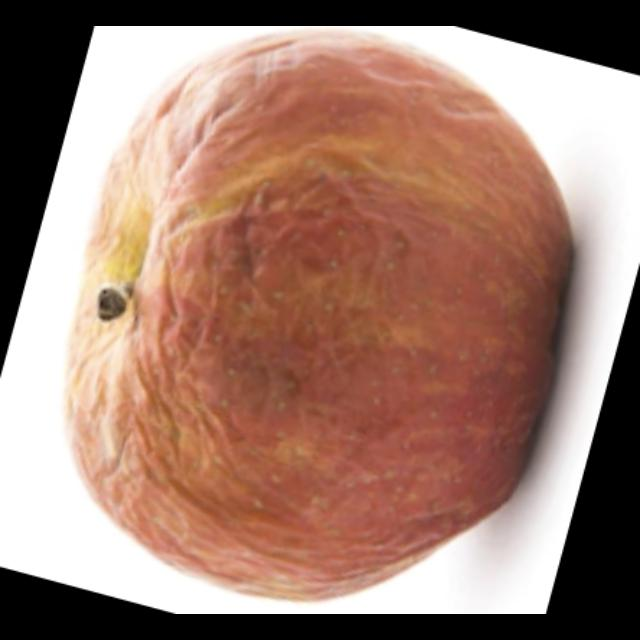Apel Tidak Segar: (39, 36, 597, 608)
